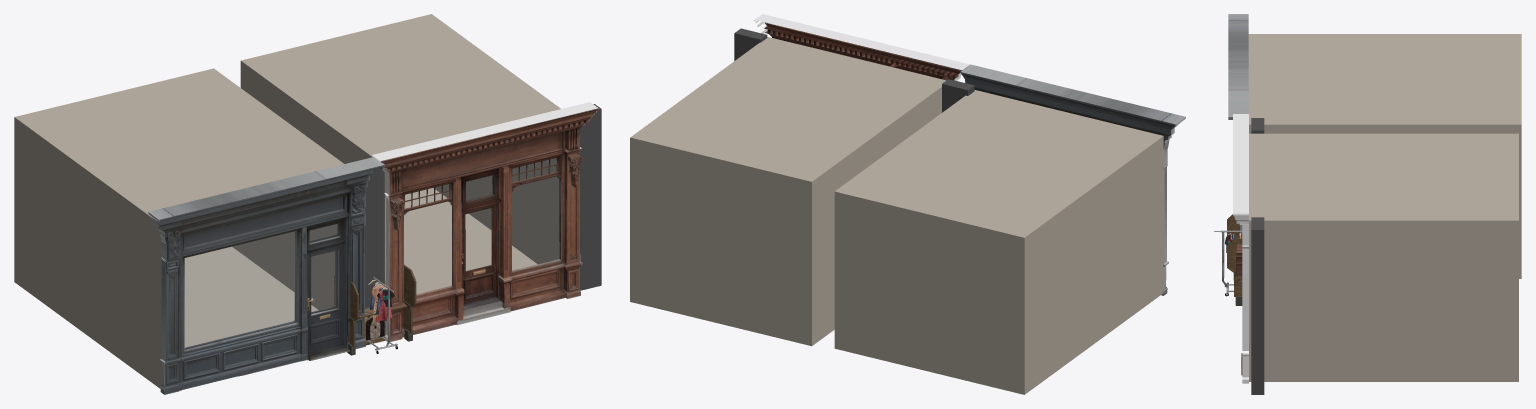
File: v5shop.glb
3 views of the same model, side by side, from view 1: azimuth 30°, elevation 25°; view 2: azimuth 150°, elevation 25°; view 3: azimuth 270°, elevation 25° (orthographic). The views are drawn at different scales.
Parts seen in each view (by area): view 1: front, booth, rackA, target; view 2: front; view 3: front, booth, rackB.
Boxes of the visible parts, x1,y1,x2,y2 form: front: (14,14,601,394); booth: (333,264,416,355); rackA: (367,277,397,353); target: (364,307,385,345); front: (630,14,1185,394); front: (1228,14,1521,394); booth: (1227,214,1242,305); rackB: (1215,231,1242,295).
Bounding box in the file's own units: 12.75 × 5.05 × 7.99.
Materials: 6 (4 with a texture image).
